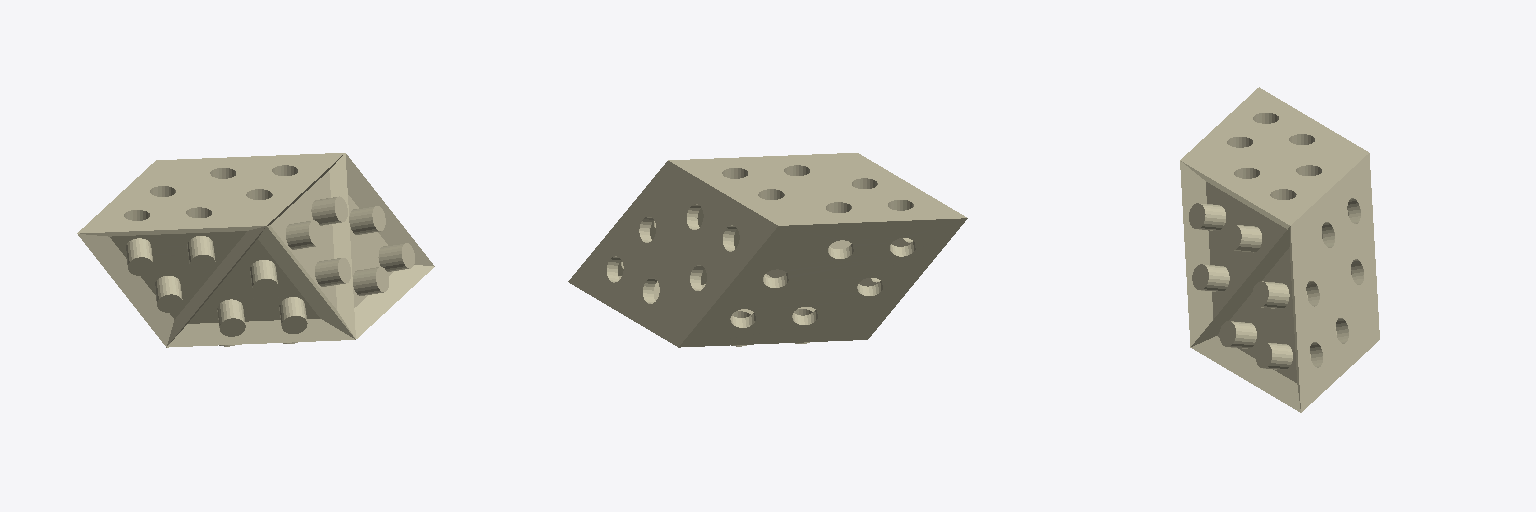
Rendered from theuntitledtoo.obj.
The picture shows the model from 3 angles: view 1: azimuth 30°, elevation 25°; view 2: azimuth 150°, elevation 25°; view 3: azimuth 270°, elevation 25°; orthographic projection.
Visible parts, largest first — view 1: Mesh1 Model, Mesh2 Model, Mesh4 Model; view 2: Mesh1 Model; view 3: Mesh1 Model, Mesh2 Model, Mesh4 Model.
Part boxes in pixels (x1,y1,x2,y2): Mesh1 Model: (77, 153, 434, 347); Mesh2 Model: (286, 220, 321, 249); Mesh4 Model: (311, 196, 347, 225); Mesh1 Model: (568, 153, 967, 347); Mesh1 Model: (1180, 87, 1379, 412); Mesh2 Model: (1189, 203, 1225, 230); Mesh4 Model: (1225, 225, 1261, 252).
Bounding box in the file's own units: 166 × 63.69 × 75.65.